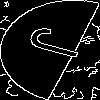J: (24, 25, 100, 64)
